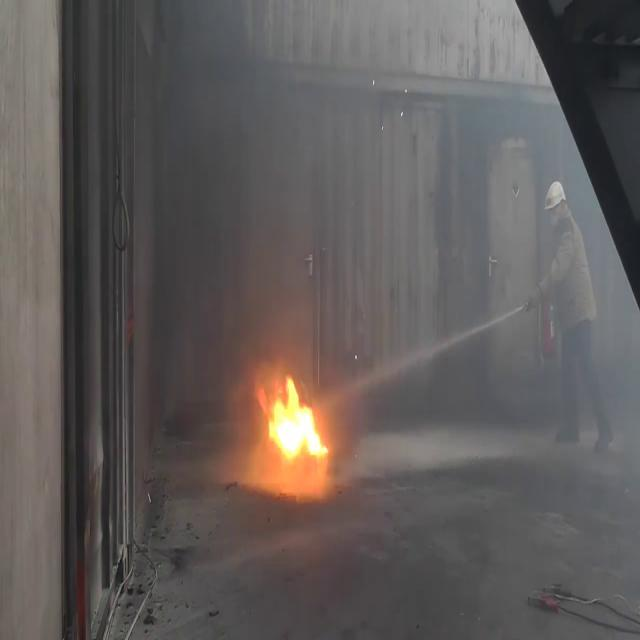Fire: (262, 366, 330, 476)
Smoke: (160, 1, 340, 344)
